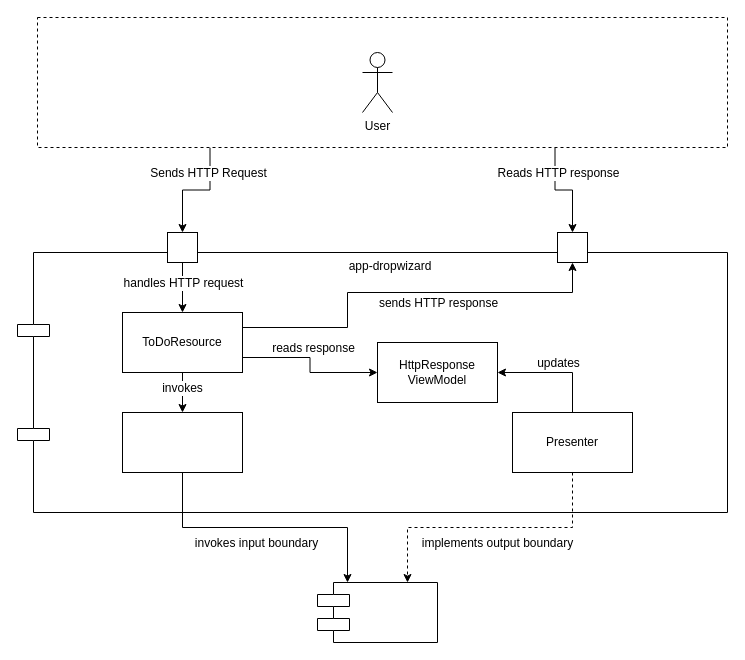
Some shapes in this 745 by 660 pixel diagram are drawn without their labels. Here are the shapes that lost their labels. From the top down, the centre of each, then its label:
pixel 182 442: ToDoController
pixel 377 612: boundary
